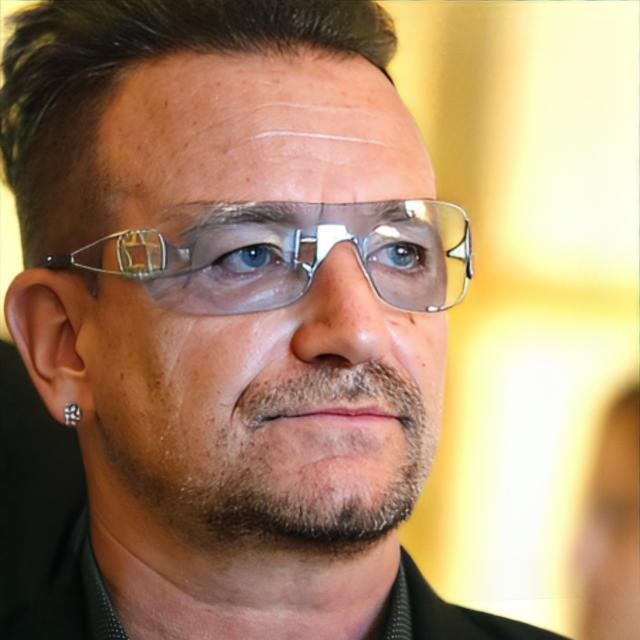neutral: (86, 51, 450, 542)
